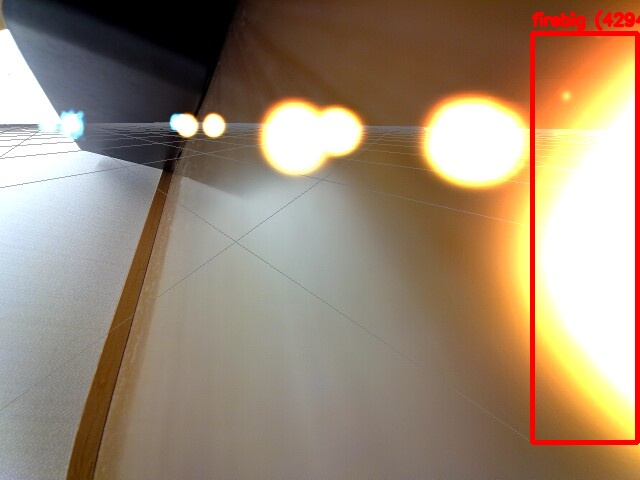firebig: (532, 33, 637, 442)
